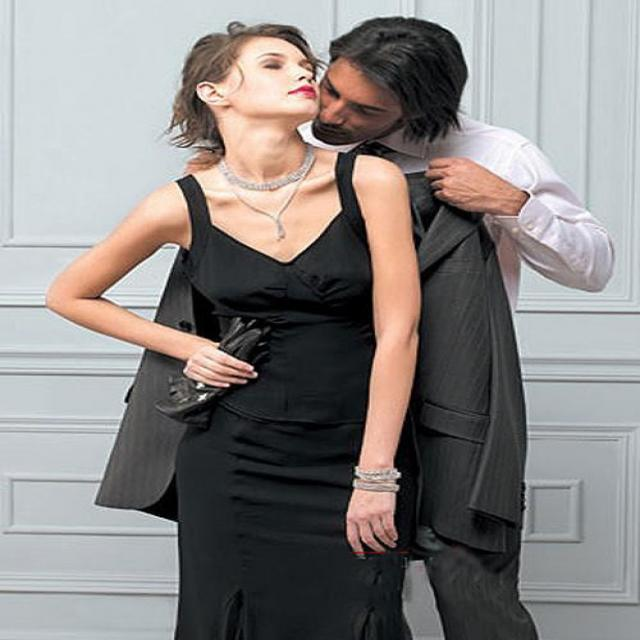Manusia: (91, 11, 424, 640)
